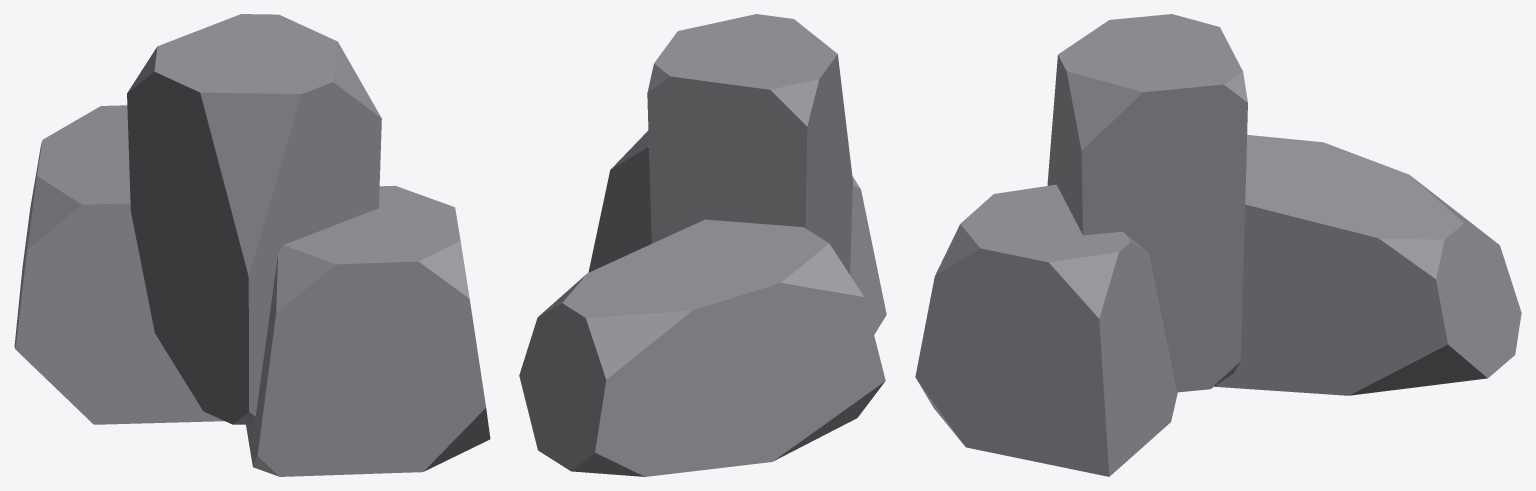
Rendered from Mountain_1.fbx.
The picture shows the model from 3 angles, left to right: view 1: azimuth 30°, elevation 25°; view 2: azimuth 150°, elevation 25°; view 3: azimuth 270°, elevation 25°; orthographic projection. The views are drawn at different scales.
Visible parts, largest first — view 1: Mountain_1; view 2: Mountain_1; view 3: Mountain_1.
Part boxes in pixels (x1,y1,x2,y2): Mountain_1: (14, 14, 490, 476); Mountain_1: (519, 14, 886, 476); Mountain_1: (915, 14, 1521, 476).
Size of the model in its own units: 5.5 by 4.61 by 7.65.
